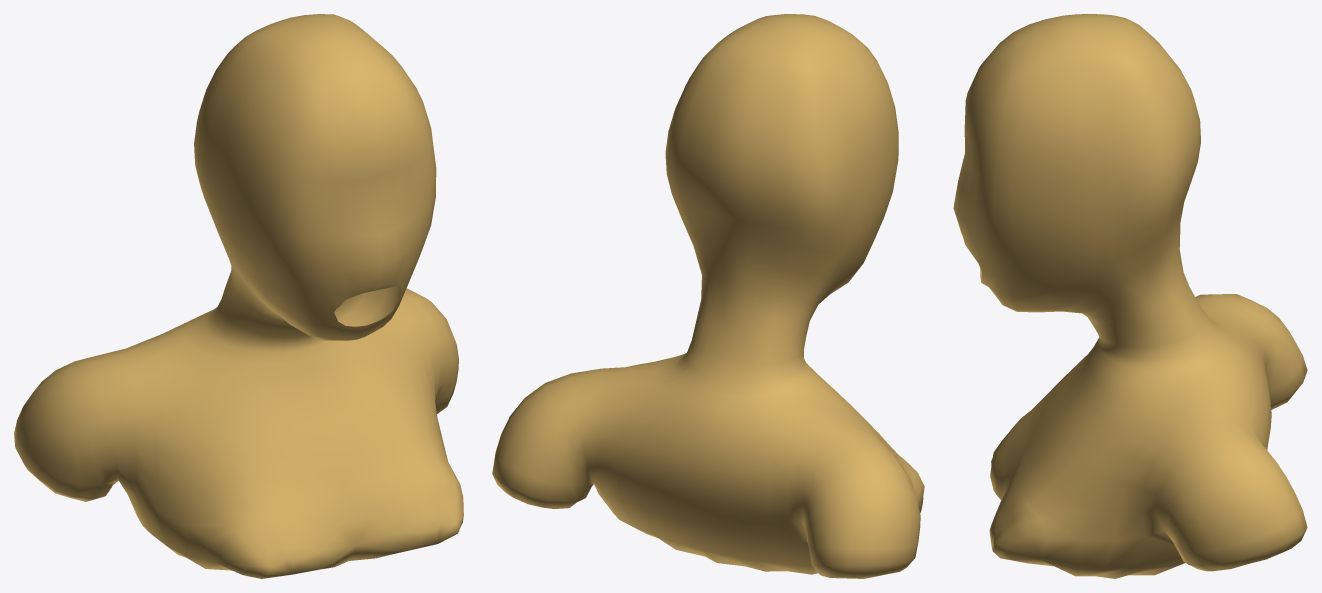
The model's file is humainanimebouche.glb.
3 renders of one model, left to right at view 1: azimuth 30°, elevation 25°; view 2: azimuth 150°, elevation 25°; view 3: azimuth 270°, elevation 25°, orthographic. The views are drawn at different scales.
Parts seen in each view (by area): view 1: Female_Body_Base_Model.001; view 2: Female_Body_Base_Model.001; view 3: Female_Body_Base_Model.001.
Boxes of the visible parts, <box> form: Female_Body_Base_Model.001: <box>14,14,463,578</box>; Female_Body_Base_Model.001: <box>492,14,924,578</box>; Female_Body_Base_Model.001: <box>953,14,1307,578</box>.
Size of the model in its own units: 4.66 by 5.55 by 3.5.
